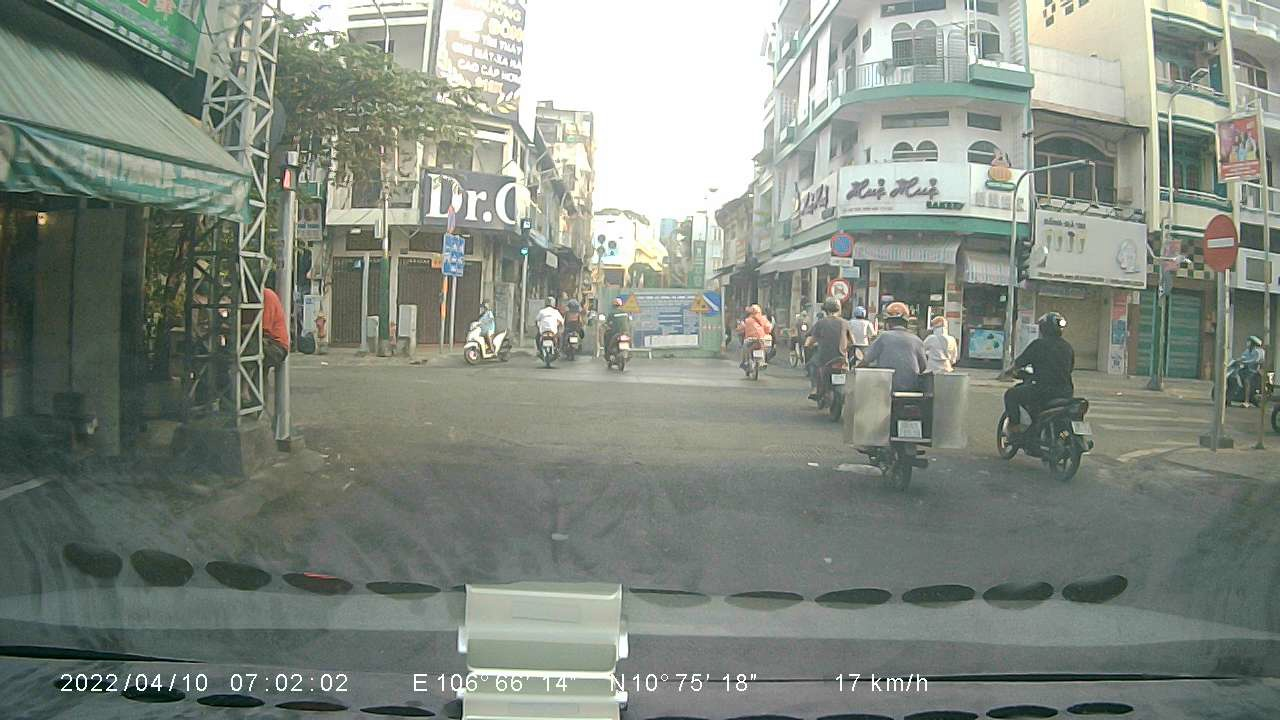Cam di nguoc chieu: (1198, 210, 1242, 275)
